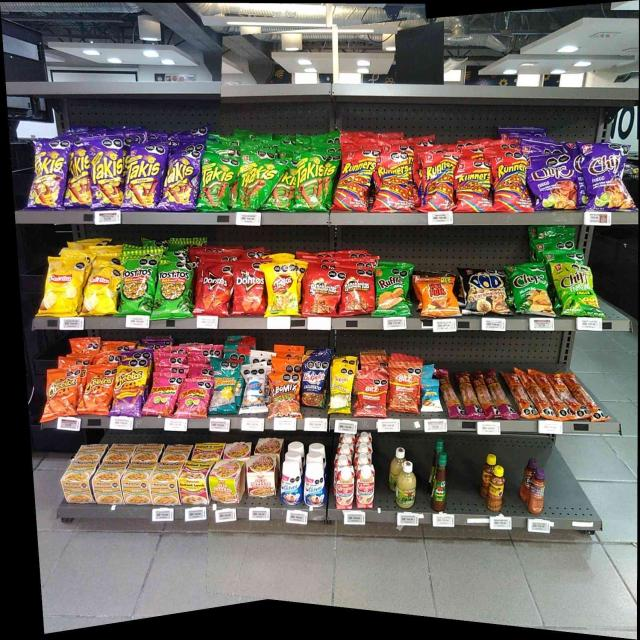bitzAlmendras: (421, 379, 442, 412)
bitzEnchilado90: (357, 370, 387, 417), (389, 368, 421, 410)
bitzEnchilado95: (512, 368, 594, 421)
bitzHabanero: (444, 370, 508, 420)
bokadosCacahuates: (302, 360, 327, 407)
botaneraChilito: (488, 462, 506, 513)
cheetosFlaminHot: (116, 361, 144, 414)
cheetosOriginal: (47, 366, 79, 412), (82, 369, 112, 416)
chipsFuego: (581, 143, 632, 213), (533, 156, 572, 208)
chipsJalapeno: (510, 264, 551, 316)
chipsPapatinas: (555, 260, 597, 318)
churrumais: (180, 375, 208, 419), (152, 373, 178, 418)
delPrimoSalsa: (394, 458, 418, 511)
doritosNacho: (233, 264, 265, 318), (201, 262, 231, 317)
fritosLimon: (266, 265, 298, 317)
hotNutsOriginal: (414, 276, 460, 316)
leoCacahuates: (242, 364, 267, 415)
leoMix: (269, 369, 299, 415)
maruchanPollo: (61, 461, 92, 503), (95, 461, 125, 504), (152, 462, 179, 505), (126, 459, 150, 505)
maruchanRes: (180, 459, 210, 506)
nestleCarnation: (354, 464, 376, 510), (334, 463, 353, 511)
nestleLechera: (302, 461, 328, 506), (280, 455, 300, 507)
nissinCamaron: (210, 459, 246, 504)
nissinRes: (246, 451, 277, 498)
popKarameladas: (462, 267, 508, 315)
rancheritos: (306, 266, 338, 314), (342, 271, 374, 311)
rufflesQueso: (376, 268, 408, 317)
runners: (494, 152, 530, 211), (340, 151, 373, 213), (421, 152, 455, 210), (458, 158, 492, 211), (377, 151, 407, 211)
sabritasOriginal: (48, 258, 81, 316), (86, 262, 118, 316)
salsaBufalo: (430, 447, 449, 512)
semillasCalabaza: (330, 366, 354, 415)
semillasGirasol: (212, 358, 240, 416)
tajinDulce: (527, 467, 545, 513)
takisFuego: (160, 145, 197, 211), (125, 144, 159, 209), (33, 139, 63, 210), (92, 142, 120, 208), (68, 142, 89, 208)
takisOriginal: (296, 150, 330, 213), (239, 156, 278, 210), (202, 154, 234, 213)
tostitos: (158, 267, 190, 317), (123, 263, 154, 313)
